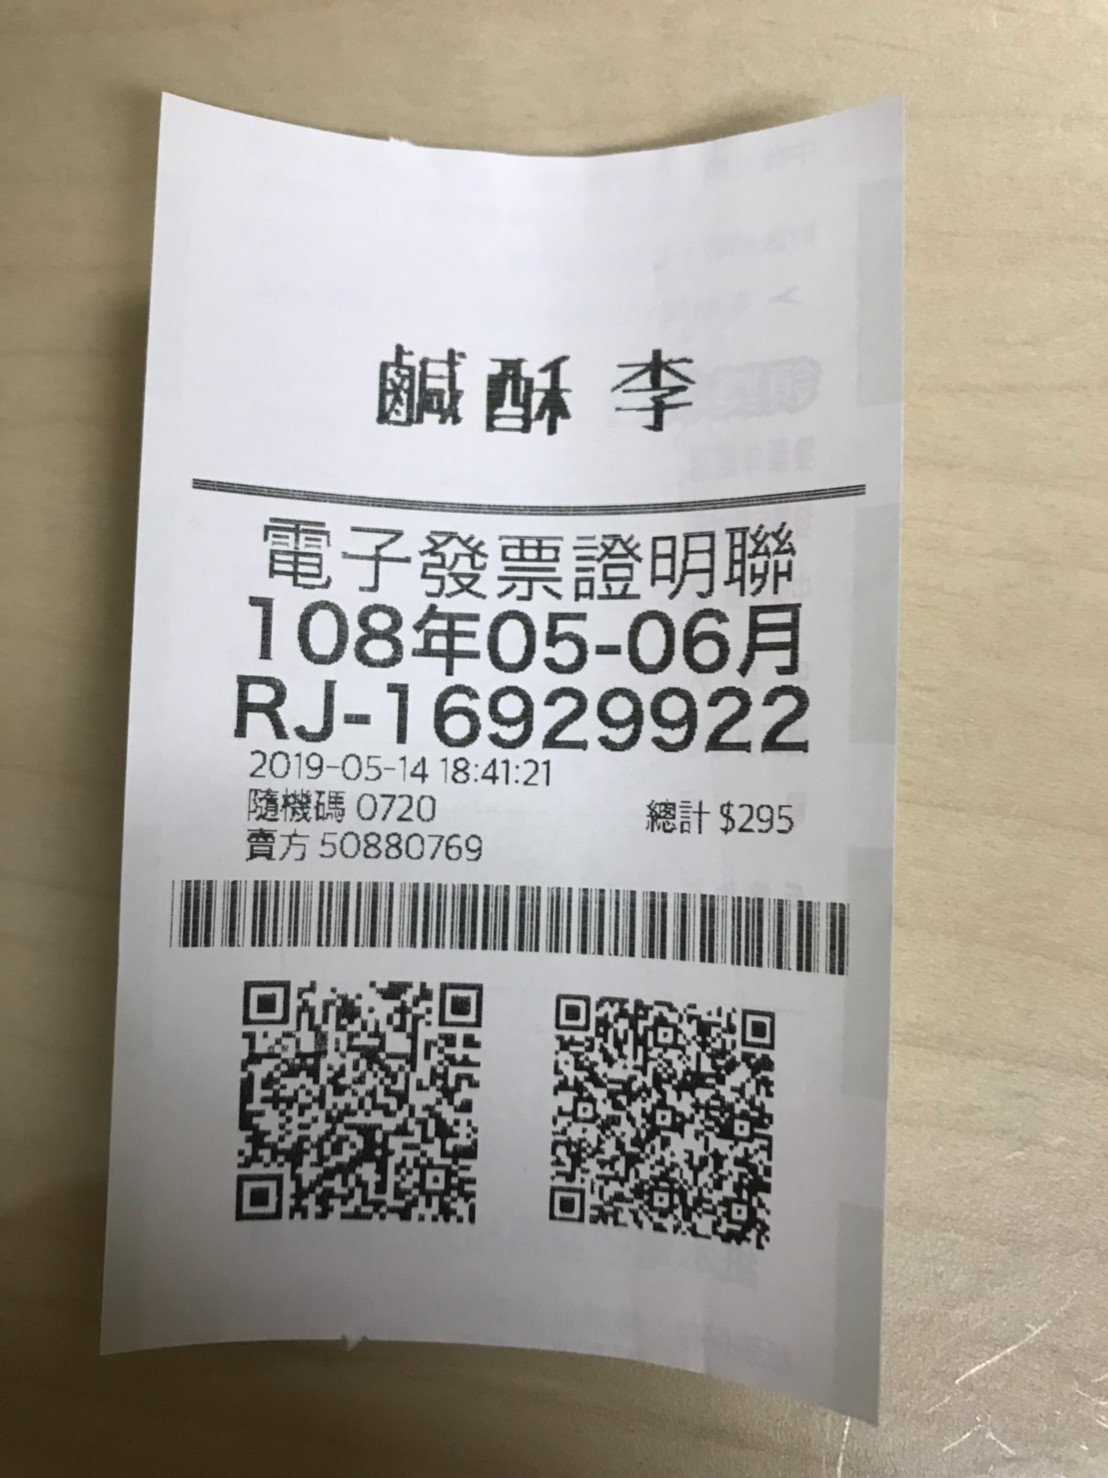Date_New: (242, 591, 807, 678)
Number_New: (382, 678, 818, 753)
